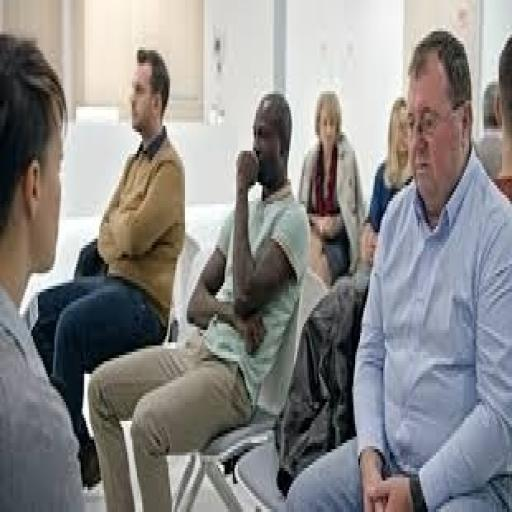sitting: (2, 22, 510, 506), (284, 28, 510, 509), (86, 88, 310, 509), (26, 44, 186, 487), (0, 28, 88, 509), (296, 88, 365, 286)
